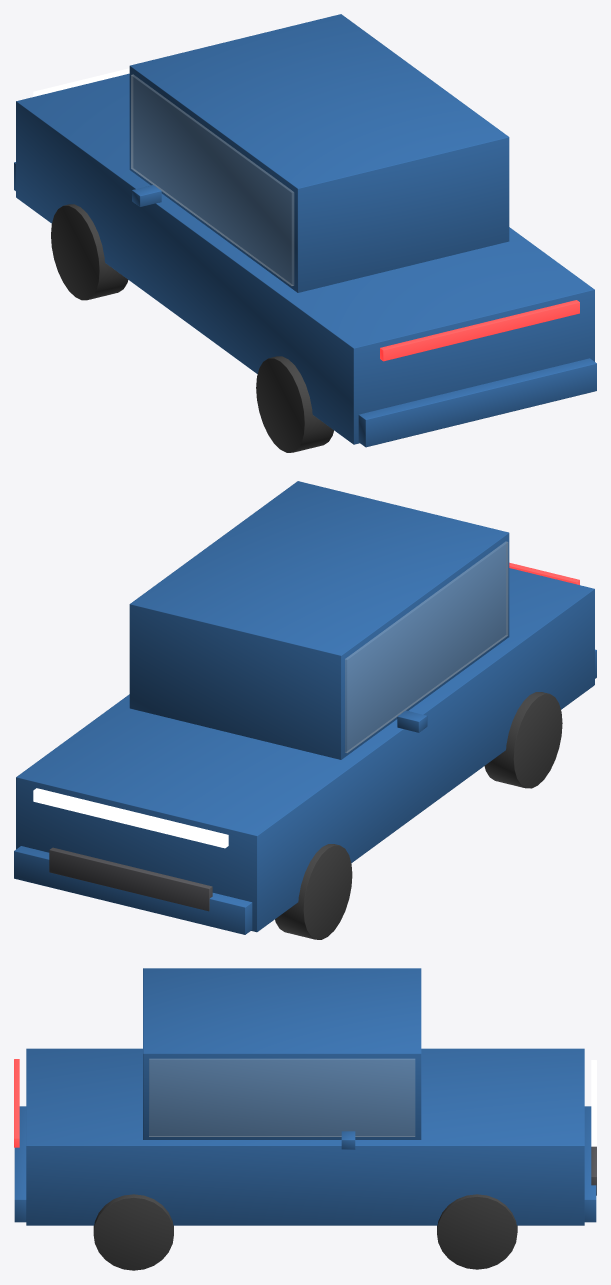
File: vehicle.glb
The picture shows the model from 3 angles, top to bottom: view 1: azimuth 30°, elevation 25°; view 2: azimuth 150°, elevation 25°; view 3: azimuth 270°, elevation 25°; orthographic projection. The views are drawn at different scales.
Visible parts, largest first — view 1: BODY_Roof, BODY_Main, GLASS_Greenhouse, BODY_Bumpers_Rear, WHEEL_RR_Tire, WHEEL_FR_Tire, LIGHT_Taillights, LIGHT_Headlights; view 2: BODY_Roof, BODY_Main, GLASS_Greenhouse, BODY_Bumpers_Front, WHEEL_RR_Tire, WHEEL_FR_Tire, BODY_Grille, LIGHT_Headlights; view 3: BODY_Main, BODY_Roof, GLASS_Greenhouse, WHEEL_RL_Tire, WHEEL_FL_Tire, BODY_Bumpers_Rear, BODY_Bumpers_Front, LIGHT_Taillights, LIGHT_Headlights.
Part boxes in pixels (left/top/right/bottom): BODY_Roof: left=129, top=14, right=509, bottom=292; BODY_Main: left=16, top=73, right=594, bottom=444; GLASS_Greenhouse: left=131, top=74, right=293, bottom=285; BODY_Bumpers_Rear: left=358, top=358, right=596, bottom=447; WHEEL_RR_Tire: left=256, top=356, right=333, bottom=452; WHEEL_FR_Tire: left=51, top=204, right=128, bottom=300; LIGHT_Taillights: left=380, top=300, right=579, bottom=361; LIGHT_Headlights: left=33, top=68, right=129, bottom=96; BODY_Roof: left=129, top=481, right=509, bottom=759; BODY_Main: left=16, top=568, right=594, bottom=932; GLASS_Greenhouse: left=345, top=541, right=508, bottom=752; BODY_Bumpers_Front: left=14, top=846, right=252, bottom=934; WHEEL_RR_Tire: left=484, top=692, right=562, bottom=788; WHEEL_FR_Tire: left=275, top=844, right=352, bottom=939; BODY_Grille: left=49, top=847, right=212, bottom=911; LIGHT_Headlights: left=33, top=788, right=228, bottom=848; BODY_Main: left=26, top=1048, right=584, bottom=1225; BODY_Roof: left=143, top=968, right=421, bottom=1139; GLASS_Greenhouse: left=149, top=1059, right=415, bottom=1136; WHEEL_RL_Tire: left=93, top=1194, right=173, bottom=1270; WHEEL_FL_Tire: left=437, top=1194, right=517, bottom=1269; BODY_Bumpers_Rear: left=14, top=1106, right=26, bottom=1222; BODY_Bumpers_Front: left=584, top=1106, right=596, bottom=1222; LIGHT_Taillights: left=14, top=1059, right=19, bottom=1147; LIGHT_Headlights: left=591, top=1060, right=596, bottom=1146.
Bounding box in the file's own units: 2.38 × 1.99 × 5.06.
